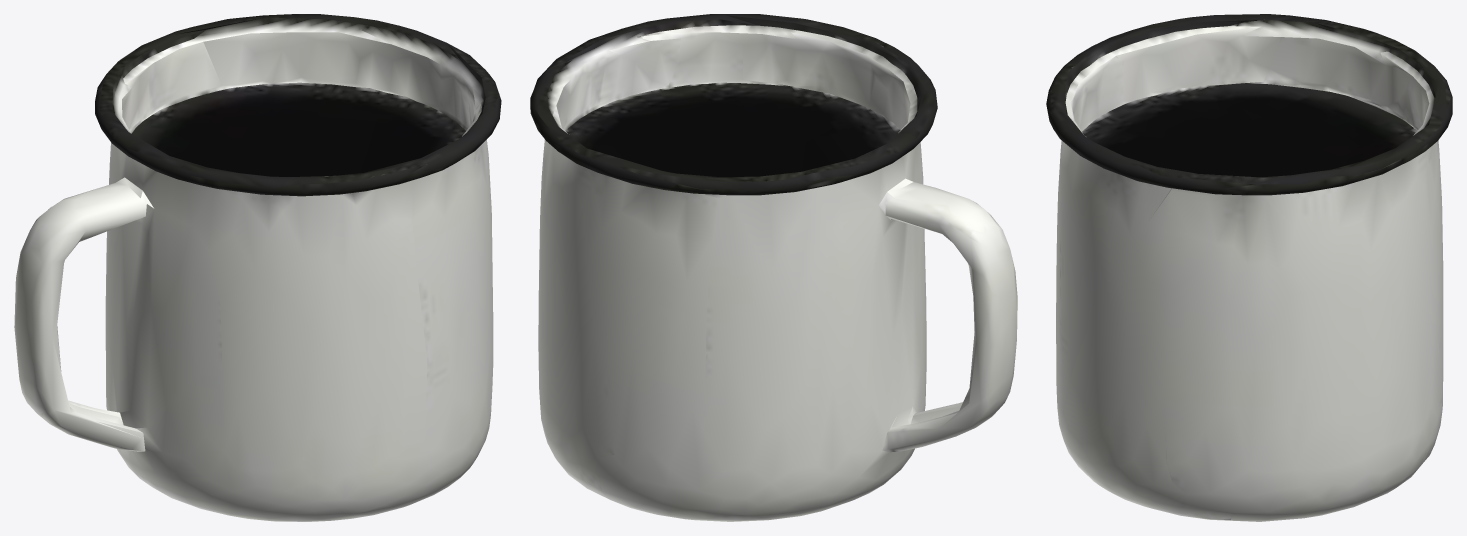
Rendered from mug.glb.
3 renders of one model, left to right at view 1: azimuth 30°, elevation 25°; view 2: azimuth 150°, elevation 25°; view 3: azimuth 270°, elevation 25°, orthographic.
Visible parts, largest first — view 1: mug; view 2: mug; view 3: mug.
Part boxes in pixels (bbox=[...]): mug: bbox=[14, 14, 501, 521]; mug: bbox=[530, 14, 1017, 521]; mug: bbox=[1046, 14, 1452, 521].
Size of the model in its own units: 0.1325 by 0.1 by 0.1036.
1 material, 1 textured.
